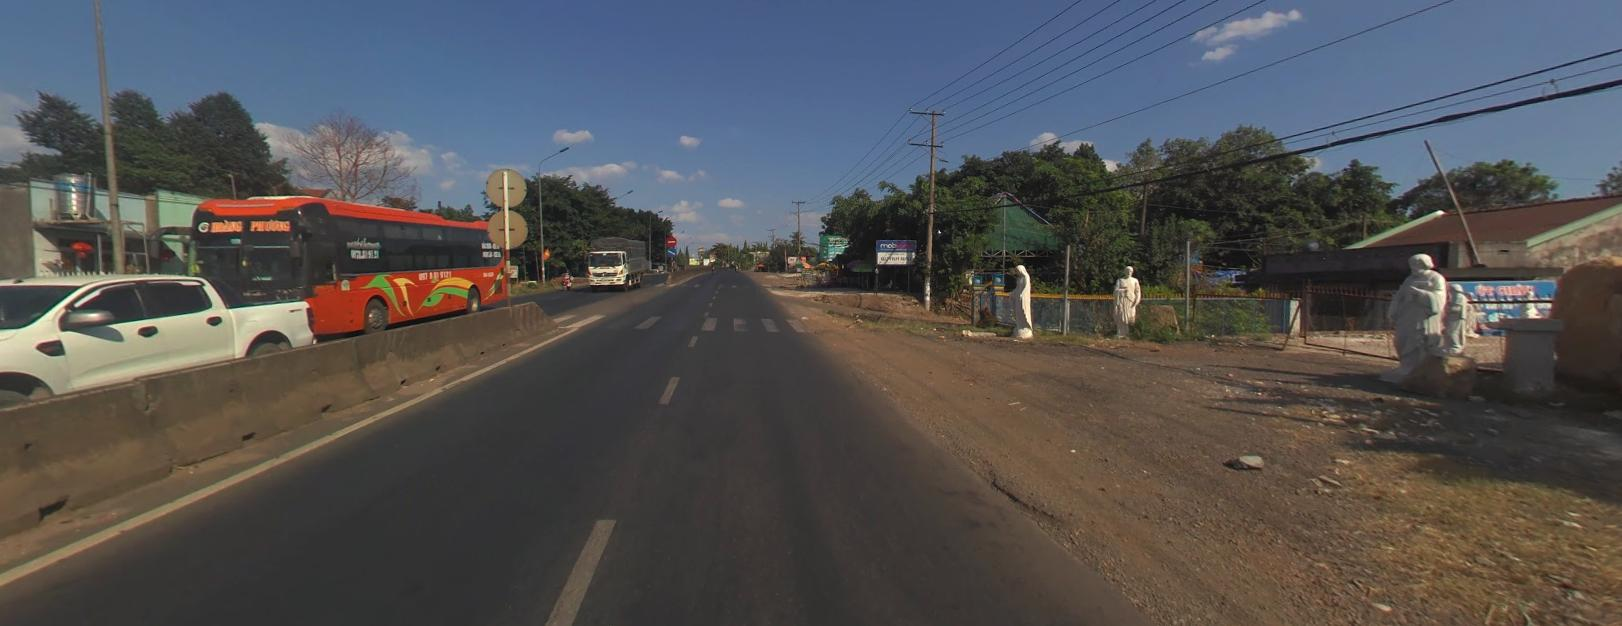Cam nguoc chieu: (665, 234, 675, 244)
Hieu lenh: (666, 245, 677, 255)
